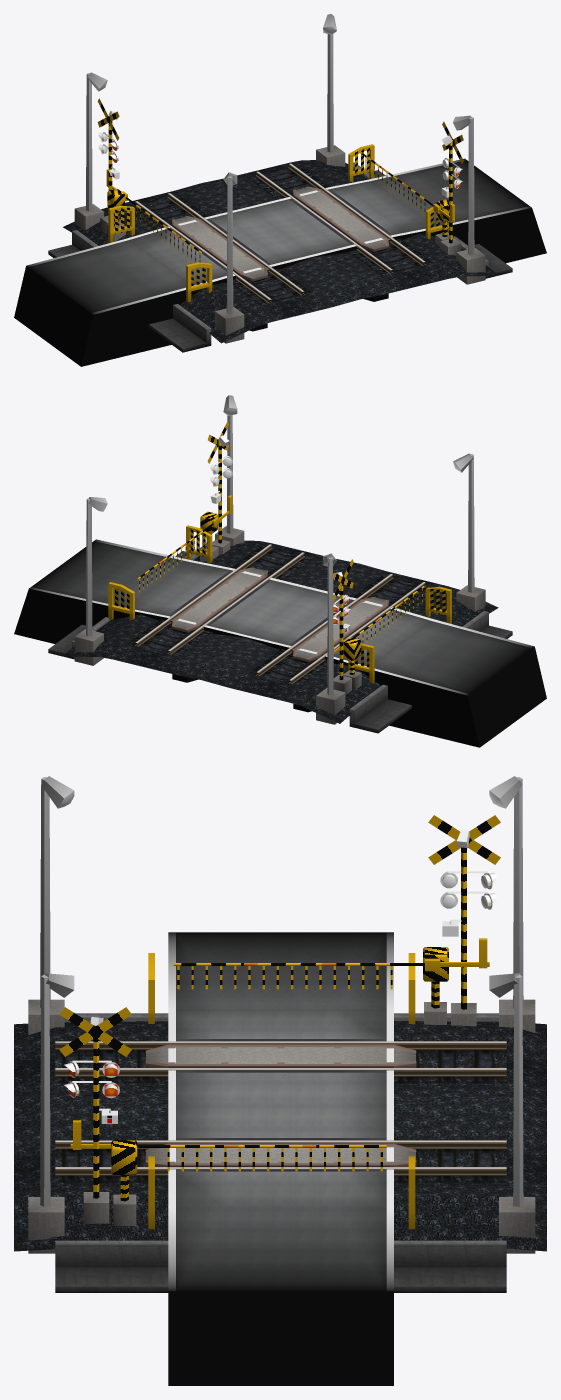
Rendered from SIN_2RAIL_HUMIKIRI25.glb.
3 renders of one model, top to bottom at view 1: azimuth 30°, elevation 25°; view 2: azimuth 150°, elevation 25°; view 3: azimuth 270°, elevation 25°, orthographic. The views are drawn at different scales.
Visible parts, largest first — view 1: obj3, bone8, bone0, BODY (×2); view 2: obj3, bone0, bone8, BODY (×2); view 3: obj3, BODY (×2), bone0, bone8, BAR4 (×2), OBI4 (×2).
Boxes of the visible parts, <box> form: obj3: <box>14,158,546,366</box>; bone8: <box>186,115,485,343</box>; bone0: <box>74,14,374,243</box>; BODY (×2): <box>97,98,463,255</box>; obj3: <box>14,539,546,747</box>; bone0: <box>74,497,374,724</box>; bone8: <box>186,395,485,623</box>; BODY (×2): <box>200,421,361,694</box>; obj3: <box>14,932,546,1385</box>; BODY (×2): <box>59,815,500,1225</box>; bone0: <box>408,776,535,1253</box>; bone8: <box>28,776,154,1253</box>; BAR4 (×2): <box>70,938,489,1149</box>; OBI4 (×2): <box>167,966,392,1171</box>.
Size of the model in its own units: 50 by 19.59 by 29.53.
40 materials, 37 textured.
